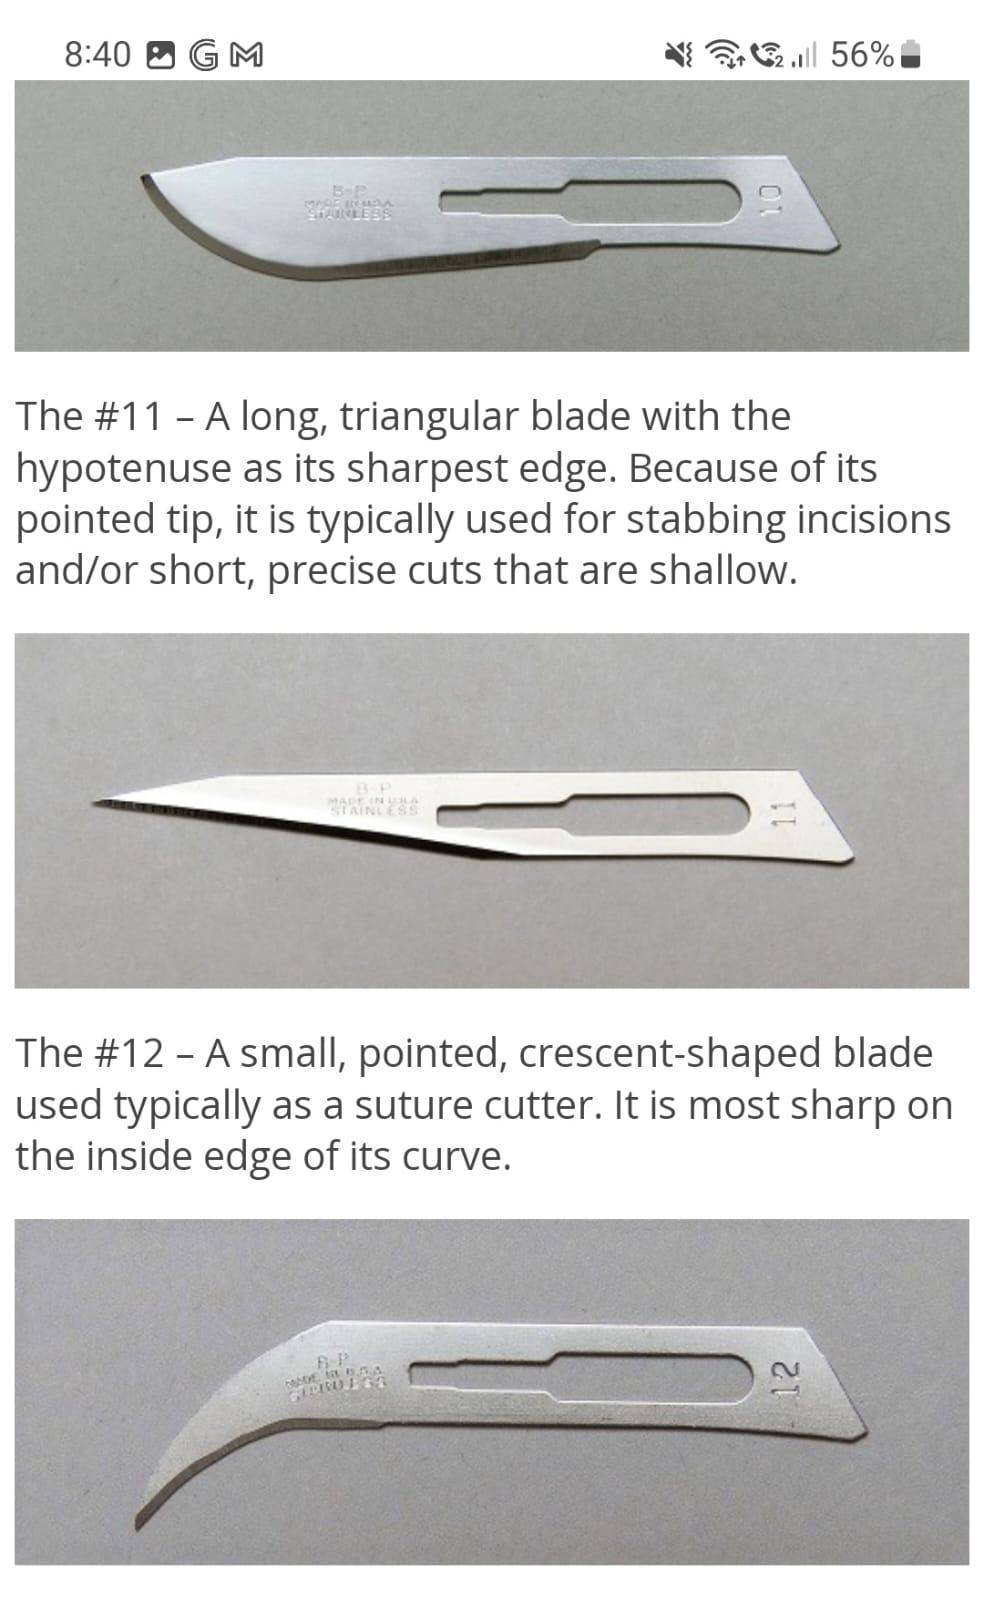Surgical blade: (115, 1280, 885, 1535), (90, 728, 867, 890), (133, 118, 850, 280)
